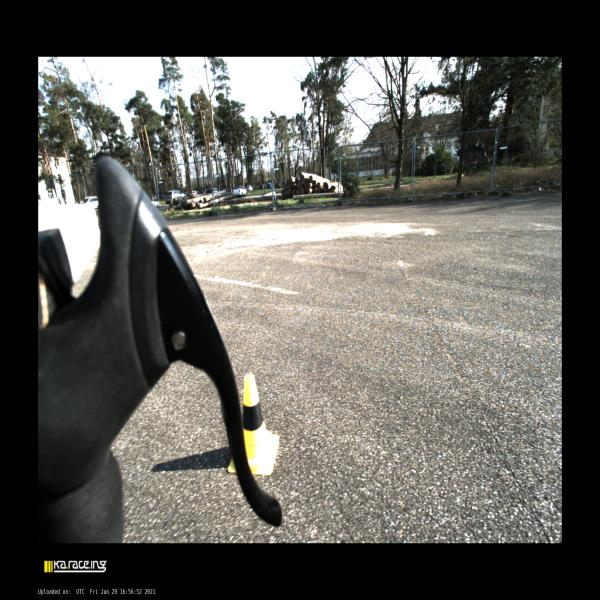yellow_cone: (227, 372, 279, 476)
